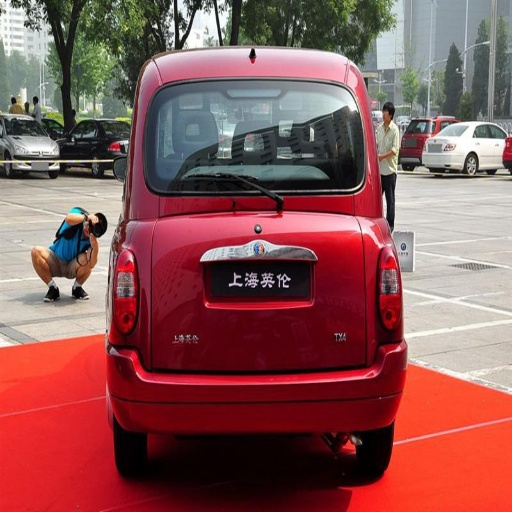back_bumper: (106, 343, 406, 436)
trunk: (125, 194, 381, 377)
